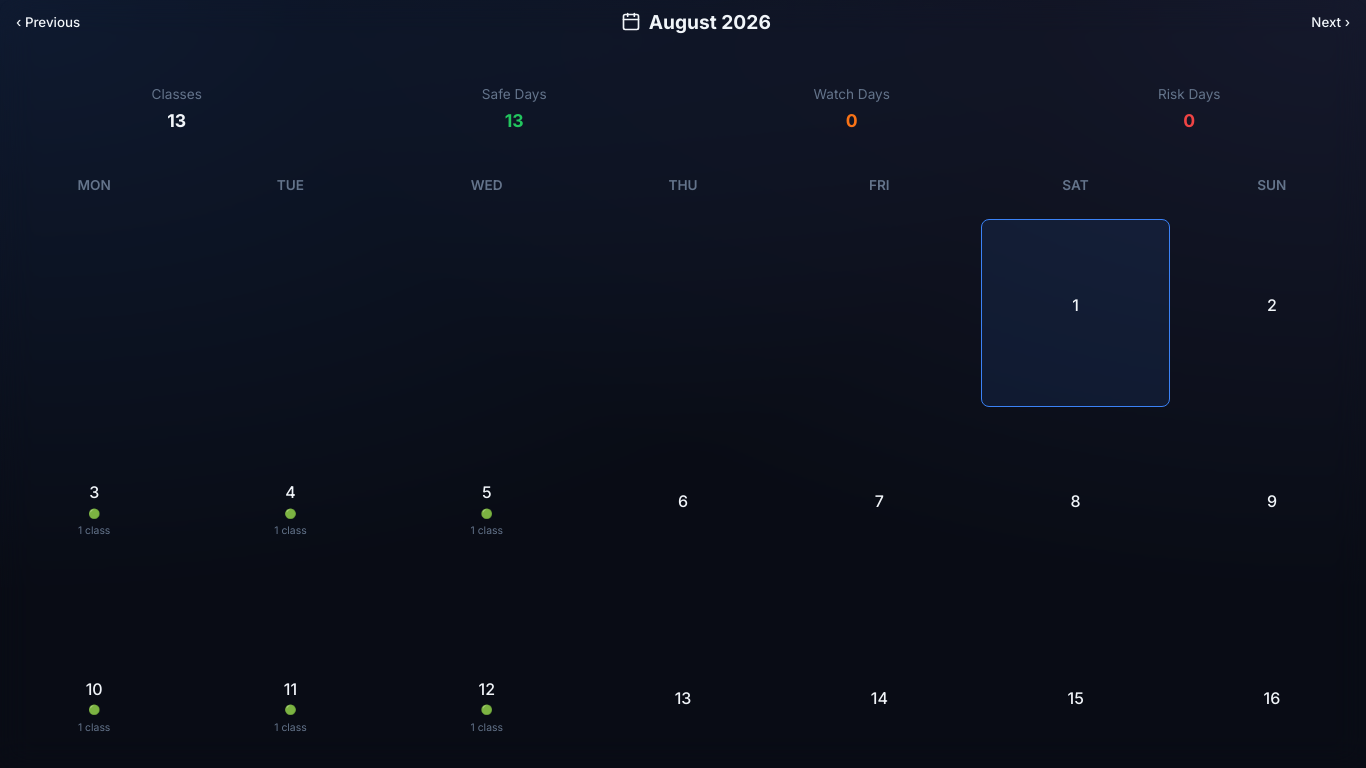
Scenario: Phase 2H Audit Tests › Baseline Test › verifies that every independent calendar date starts from the same baseline
Click Monday Aug 3
Click the text "3" at (94, 492), box x1=89 y1=480 x2=99 y2=504
(page scrolled)
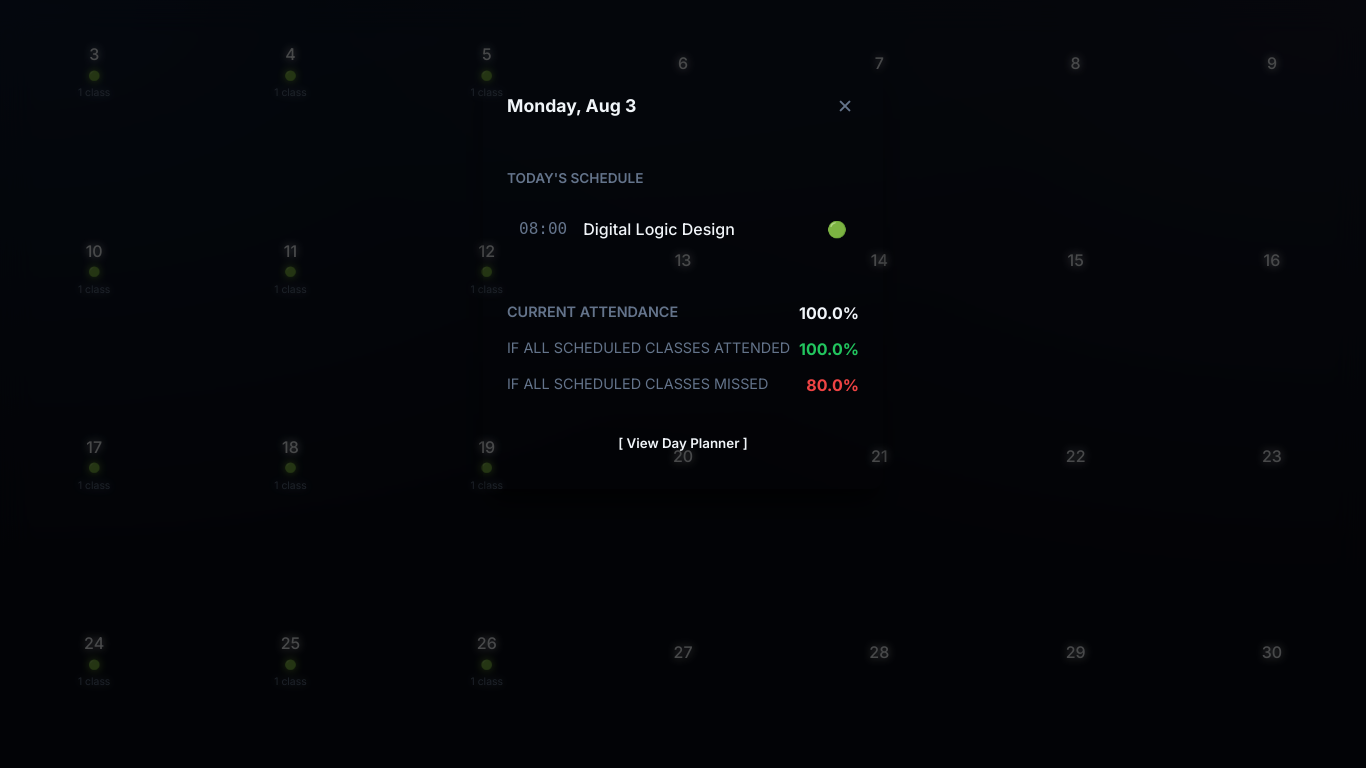
Expected: the text "IF ALL SCHEDULED CLASSES MISSED" is shown, x1=507 y1=373 x2=768 y2=397
Expected: the text "80.0%" is shown, x1=806 y1=373 x2=859 y2=397
Close modal
Press Escape
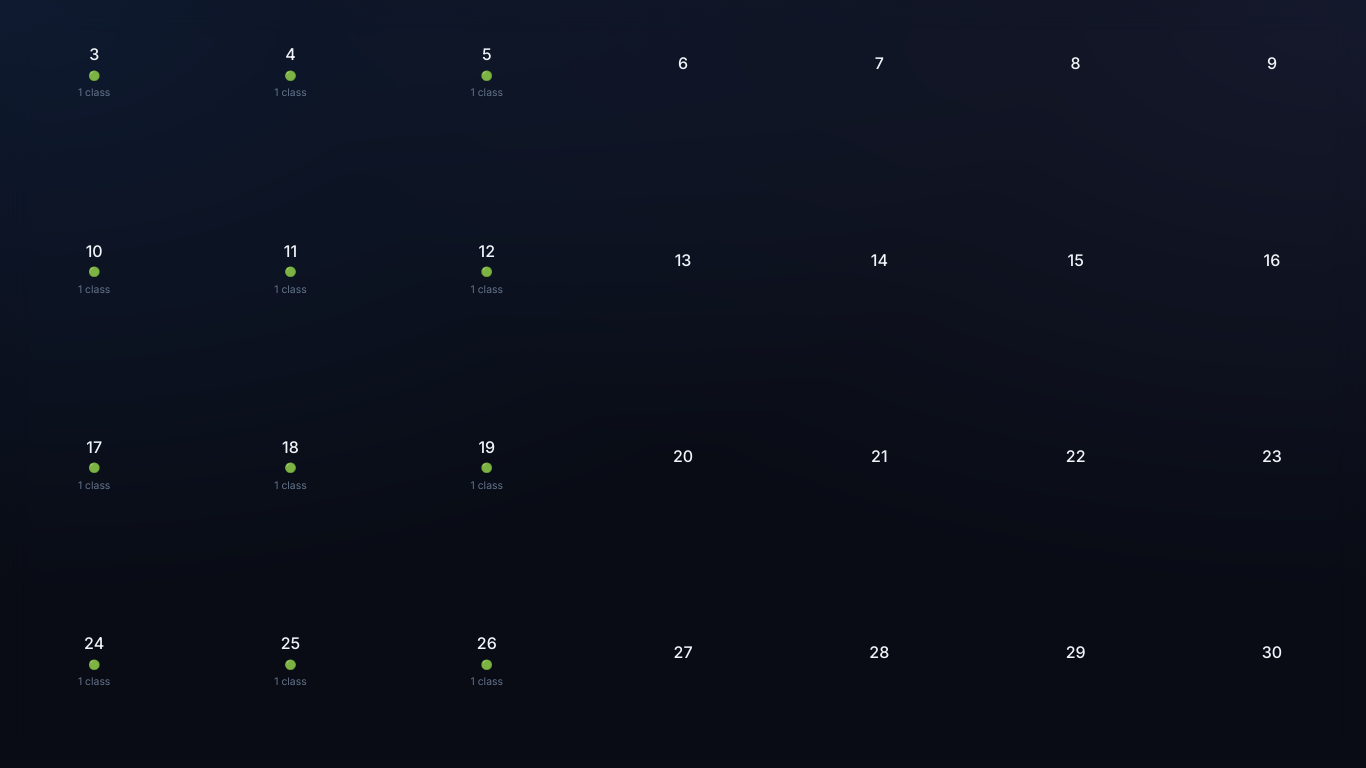
Click Tuesday Aug 4
Click the text "4" at (290, 54), box x1=285 y1=42 x2=296 y2=66
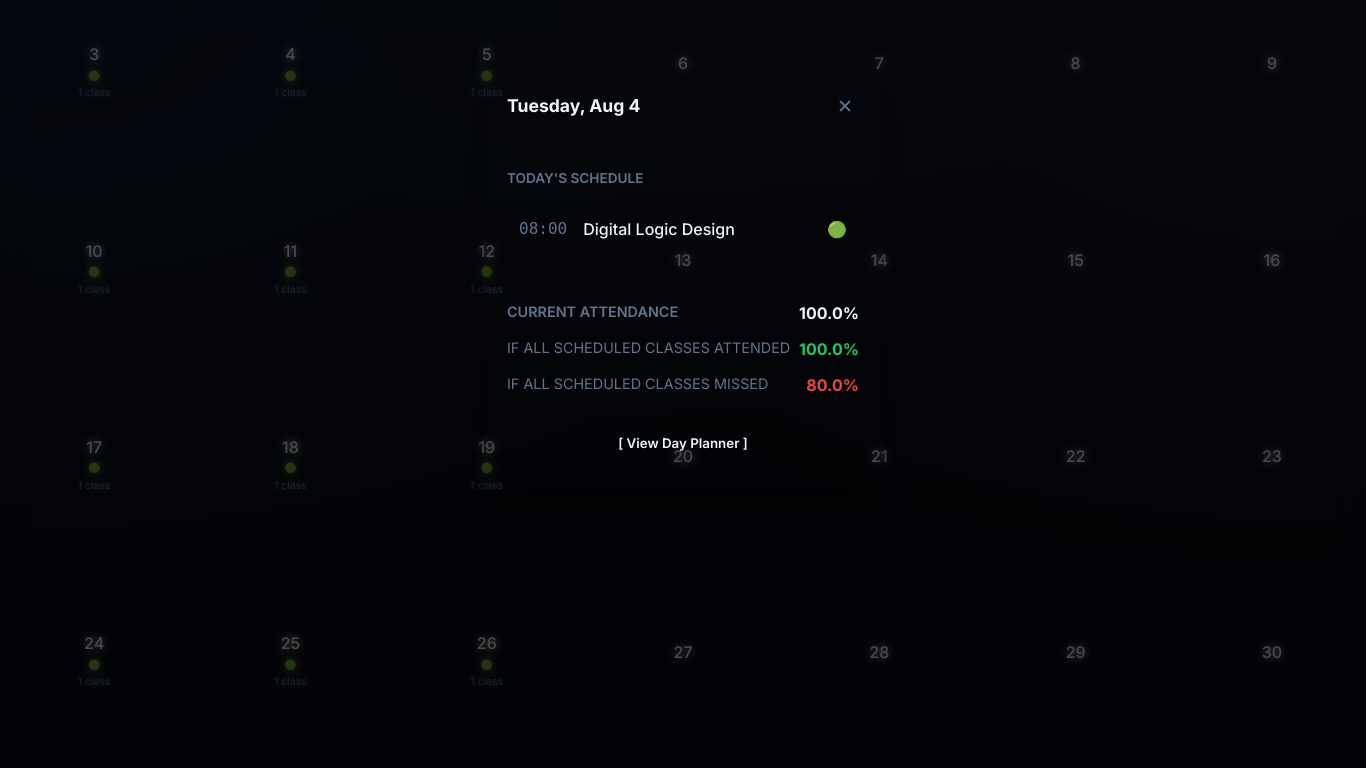
Expected: the text "IF ALL SCHEDULED CLASSES MISSED" is shown, x1=507 y1=373 x2=768 y2=397
Expected: the text "80.0%" is shown, x1=806 y1=373 x2=859 y2=397
